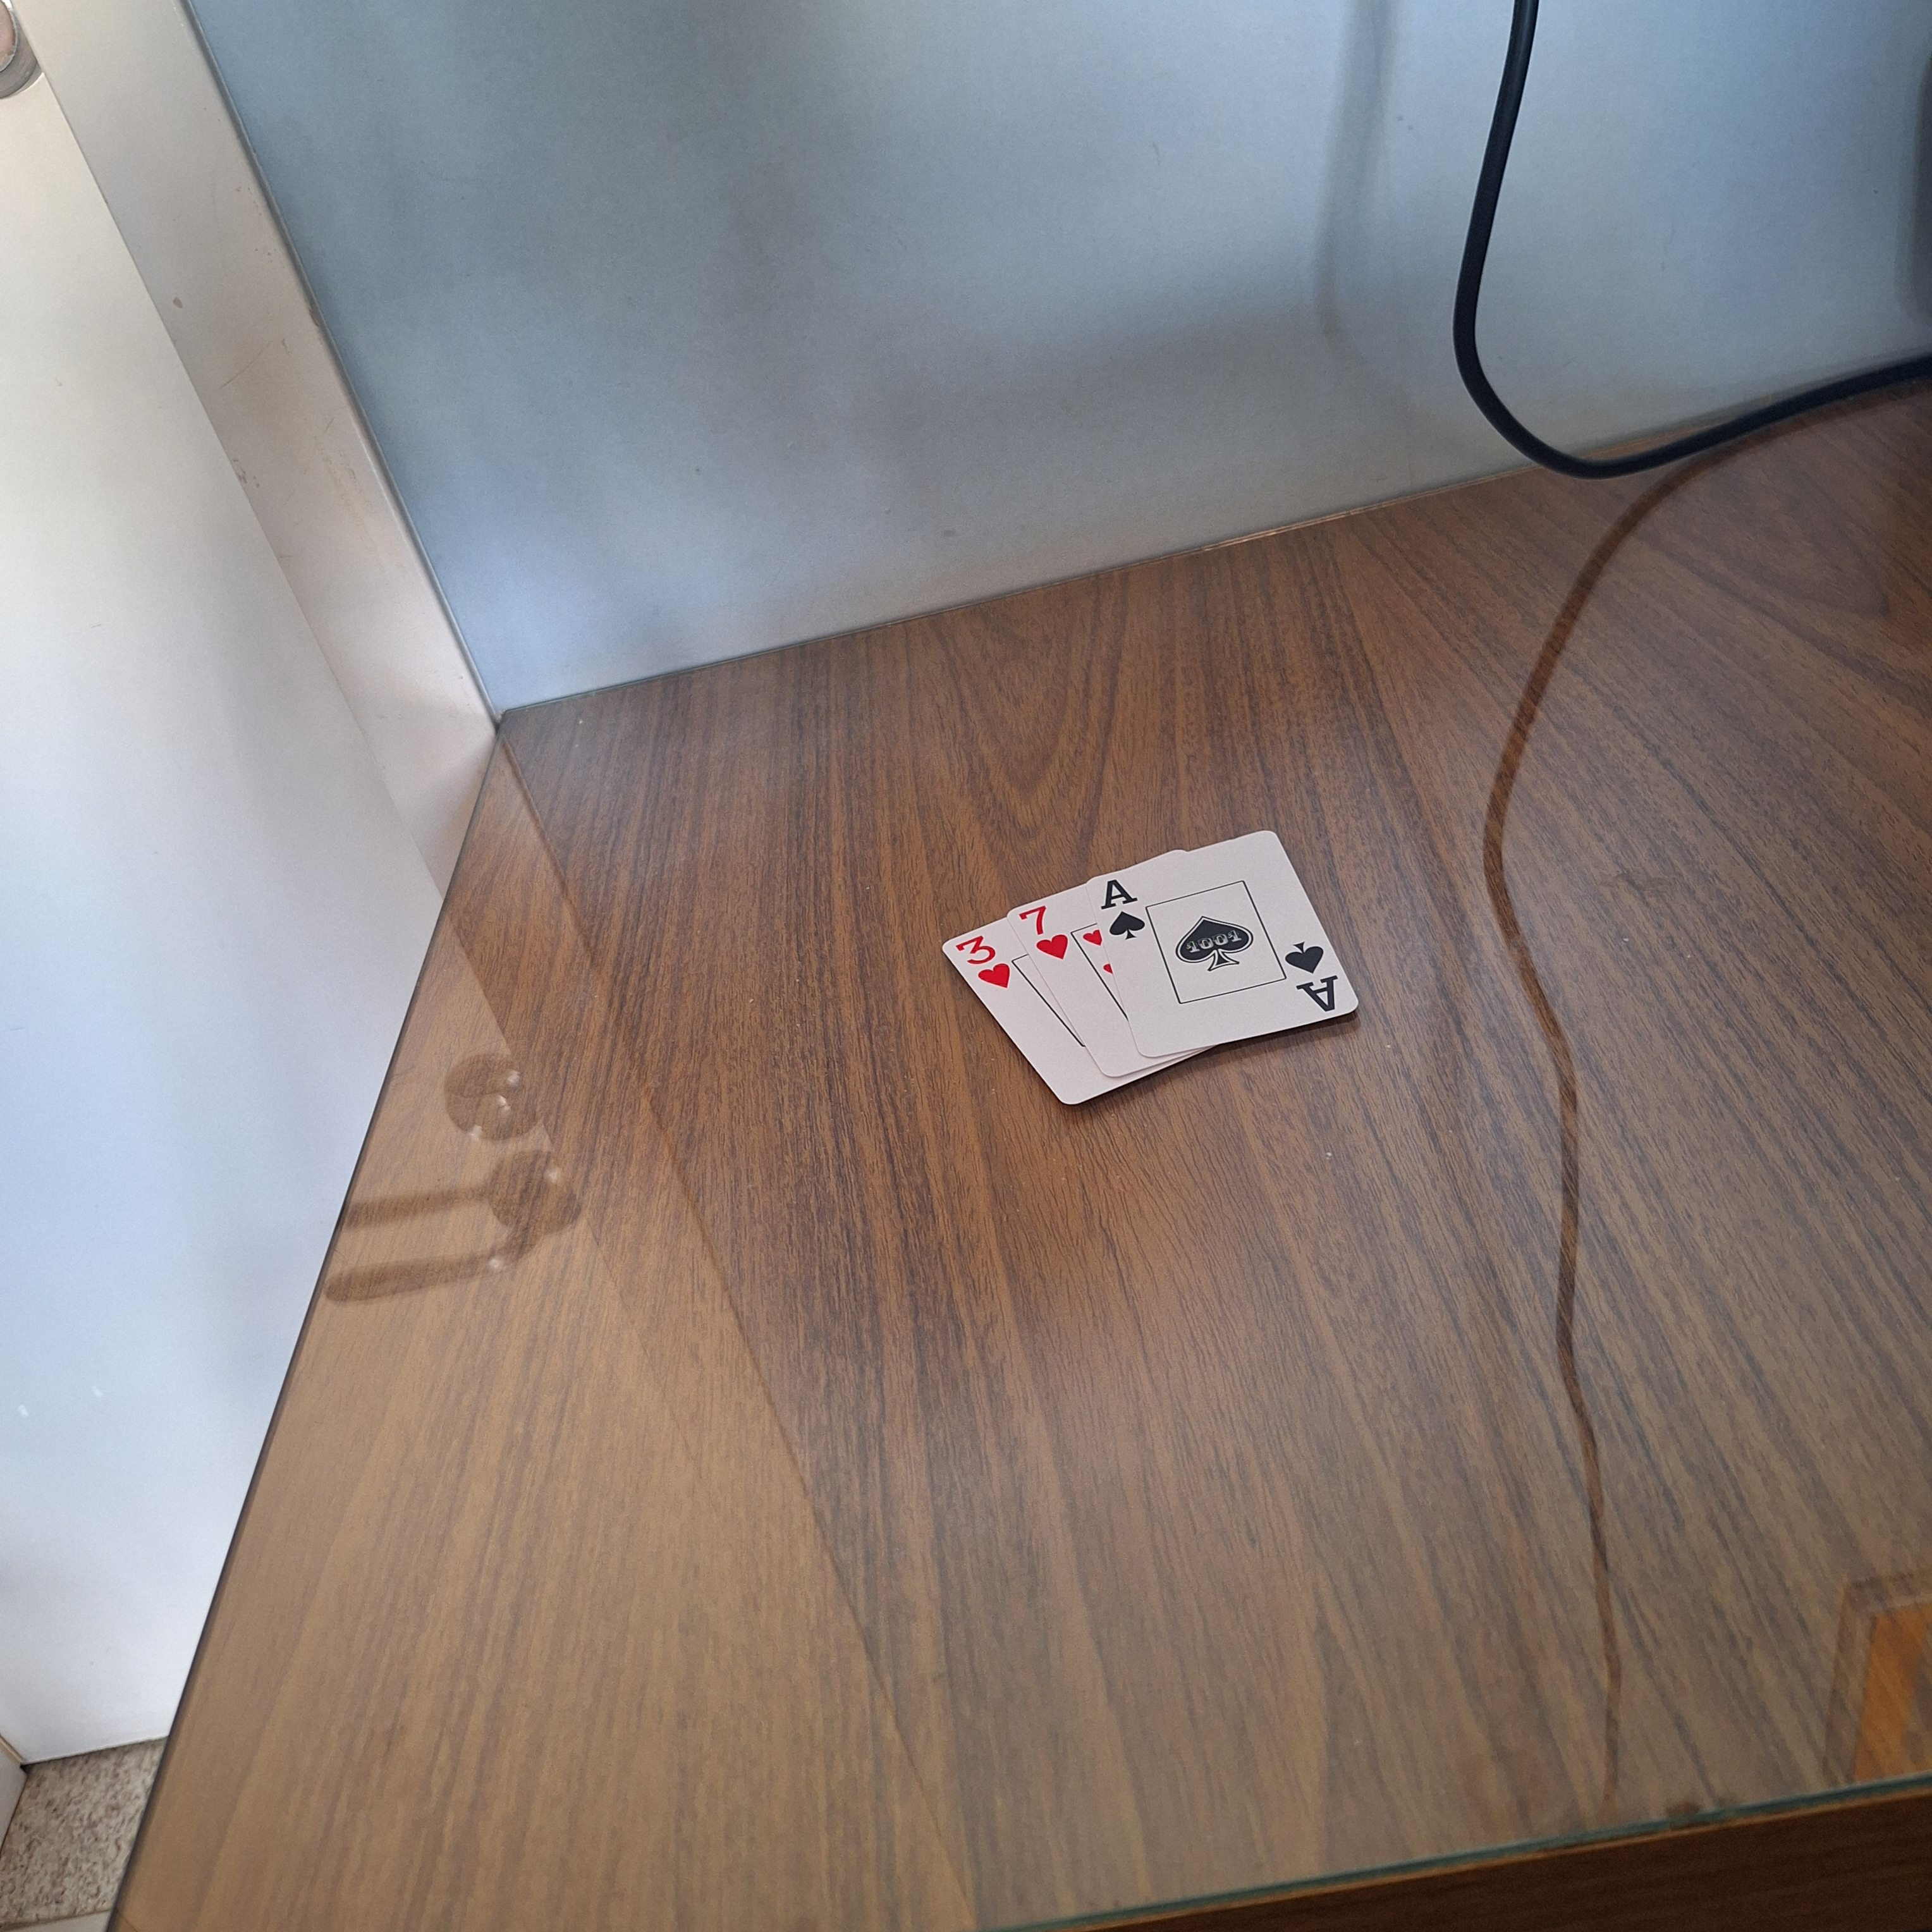3C: (950, 922, 1019, 998)
7C: (1017, 899, 1070, 968)
AE: (1279, 931, 1359, 1024), (1097, 870, 1154, 945)
